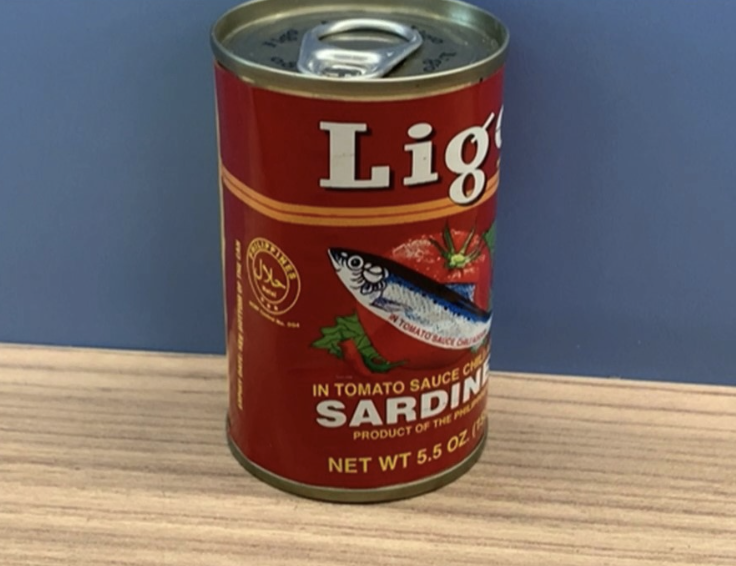sardines_100g-199g: (233, 38, 487, 463)
